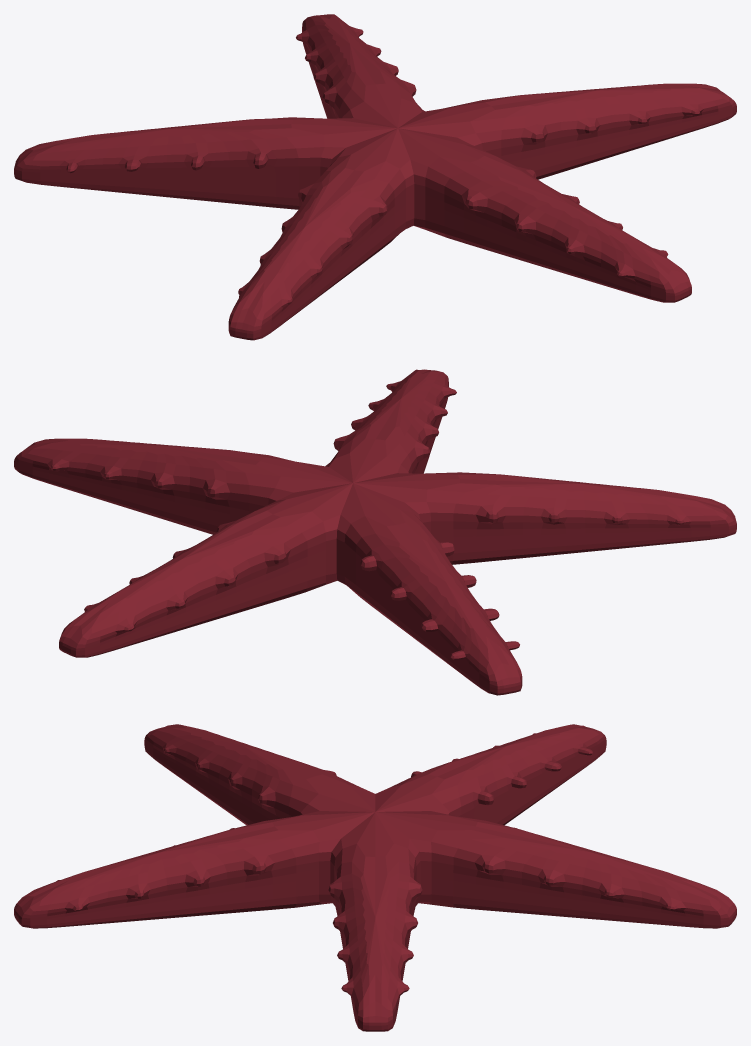
File: starfish2.fbx
3 renders of one model, top to bottom at view 1: azimuth 30°, elevation 25°; view 2: azimuth 150°, elevation 25°; view 3: azimuth 270°, elevation 25°, orthographic. The views are drawn at different scales.
Visible parts, largest first — view 1: Cylinder; view 2: Cylinder; view 3: Cylinder.
Part boxes in pixels (x1=…): Cylinder: x1=14, y1=14, x2=736, y2=340; Cylinder: x1=14, y1=369, x2=736, y2=695; Cylinder: x1=14, y1=724, x2=736, y2=1031.
Size of the model in its own units: 876 by 103 by 920.
